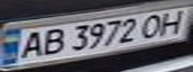2: (118, 16, 145, 45)
3: (66, 22, 90, 52)
7: (103, 17, 127, 47)
9: (84, 20, 109, 51)
A: (12, 29, 48, 61)
B: (33, 26, 69, 57)
H: (154, 8, 190, 36)
O: (136, 11, 169, 39)
